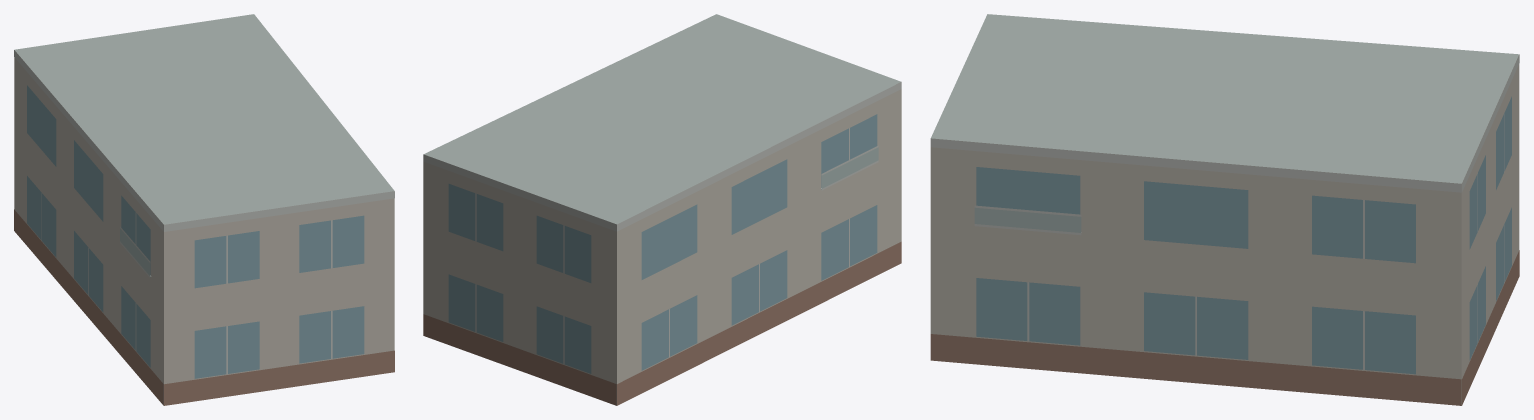
The model's file is survey-upis-32707019.glb.
3 views of the same model, side by side, from view 1: azimuth 30°, elevation 25°; view 2: azimuth 150°, elevation 25°; view 3: azimuth 270°, elevation 25° (orthographic). The views are drawn at different scales.
Parts seen in each view (by area): view 1: survey-upis-32707019.tmp; view 2: survey-upis-32707019.tmp; view 3: survey-upis-32707019.tmp.
Part boxes in pixels (x1,y1,x2,y2): survey-upis-32707019.tmp: (14,14,394,405); survey-upis-32707019.tmp: (423,14,901,405); survey-upis-32707019.tmp: (930,14,1519,405).
Bounding box in the file's own units: 10.01 × 6.1 × 14.67.
